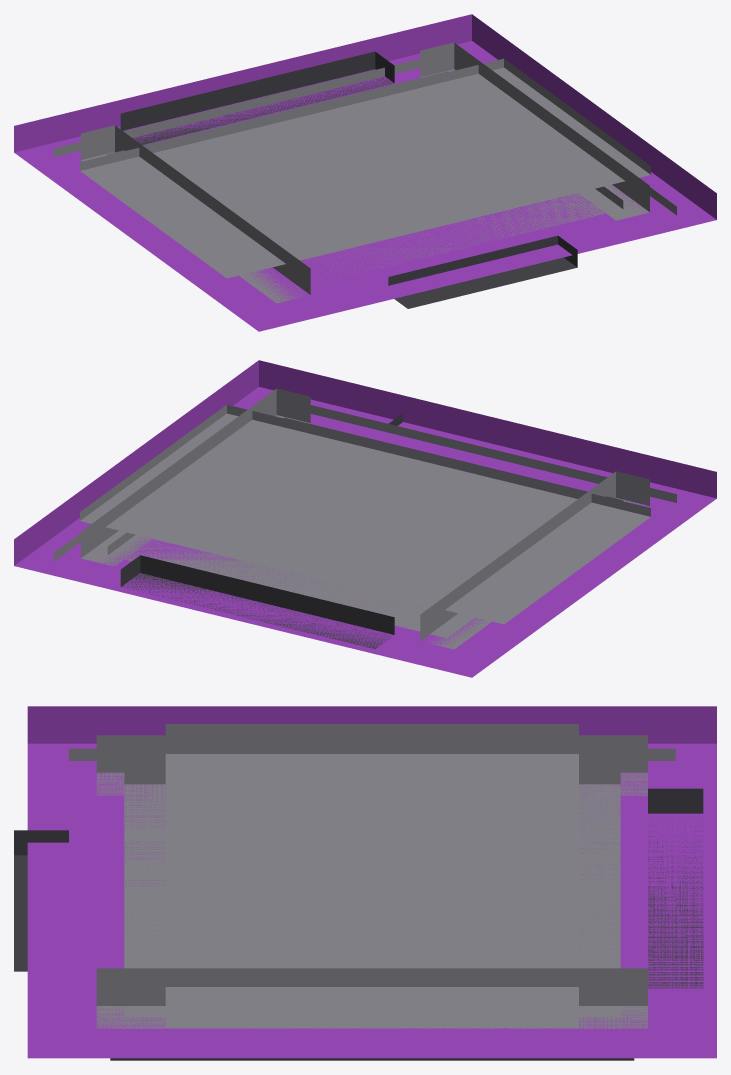
File: screen_module.gltf
The picture shows the model from 3 angles, top to bottom: view 1: azimuth 30°, elevation 25°; view 2: azimuth 150°, elevation 25°; view 3: azimuth 270°, elevation 25°; orthographic projection. The views are drawn at different scales.
Parts seen in each view (by area): view 1: screen_module; view 2: screen_module; view 3: screen_module.
Part boxes in pixels (bbox=[...]): screen_module: bbox=[14, 14, 716, 331]; screen_module: bbox=[14, 360, 716, 677]; screen_module: bbox=[14, 706, 716, 1060].
Size of the model in its own units: 0.054 by 0.006 by 0.051.
